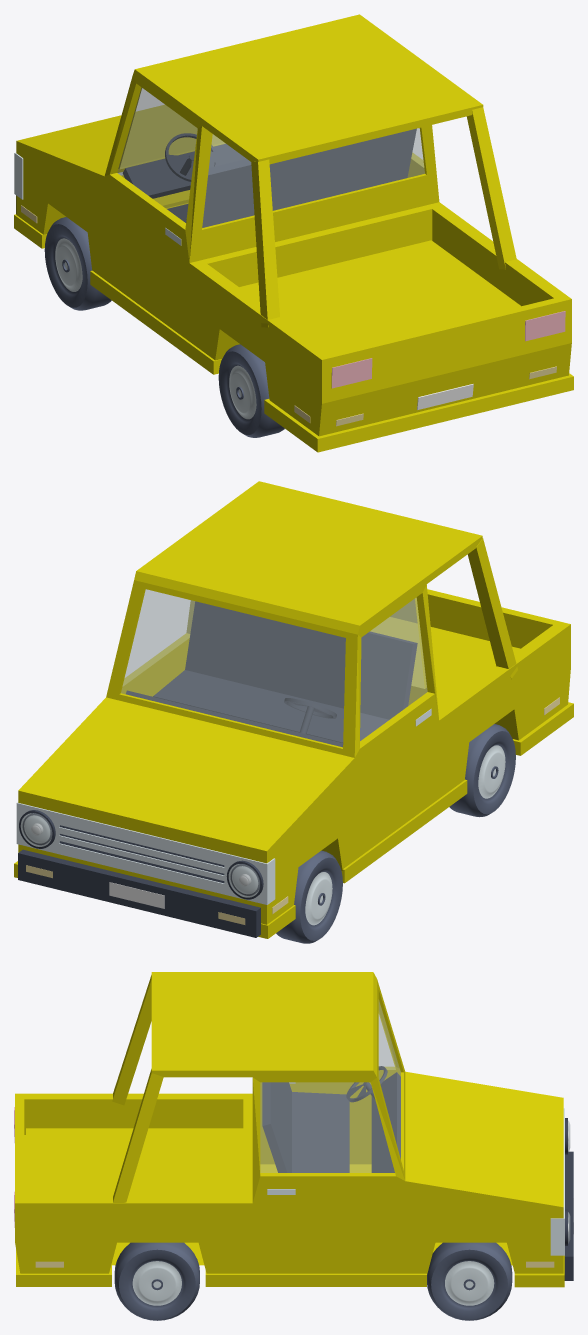
File: taxi.fbx
3 views of the same model, one above another, from view 1: azimuth 30°, elevation 25°; view 2: azimuth 150°, elevation 25°; view 3: azimuth 270°, elevation 25° (orthographic). The views are drawn at different scales.
Visible parts, largest first — view 1: scena:Cube_2_3, scena:Cube, scena:Cube_13, scena:Cube_1, scena:Cylinder_1_2, scena:Cylinder_7, scena:Cube_1_2, scena:Cube_2_2, scena:Cube_15, scena:Cube_2, scena:Cube_3, scena:Cube_12 (+3 smaller); view 2: scena:Cube_2_3, scena:Cube_13, scena:Cube_3_2, scena:Cube_4, scena:Cube_14, scena:Cube, scena:Cylinder_1_2, scena:Cylinder_7, scena:Cube_1_2, scena:Cube_2, scena:Cylinder_2_3, scena:Cylinder_2 (+6 smaller); view 3: scena:Cube_2_3, scena:Cube, scena:Cylinder_5, scena:Cylinder_6, scena:Cube_14, scena:Cube_2, scena:Cube_13, scena:Cube_15, scena:Cube_2_2, scena:Cube_1_2, scena:Cube_1, scena:Cube_4 (+2 smaller).
Boxes of the visible parts, x1=… form: scena:Cube_2_3: x1=16, y1=14, x2=571, y2=436; scena:Cube: x1=239, y1=240, x2=520, y2=352; scena:Cube_13: x1=186, y1=128, x2=416, y2=227; scena:Cube_1: x1=264, y1=373, x2=573, y2=452; scena:Cylinder_1_2: x1=218, y1=344, x2=284, y2=437; scena:Cylinder_7: x1=44, y1=217, x2=111, y2=310; scena:Cube_1_2: x1=251, y1=159, x2=279, y2=327; scena:Cube_2_2: x1=466, y1=107, x2=516, y2=269; scena:Cube_15: x1=123, y1=144, x2=246, y2=198; scena:Cube_2: x1=90, y1=270, x2=221, y2=374; scena:Cube_3: x1=14, y1=190, x2=189, y2=248; scena:Cube_12: x1=331, y1=358, x2=372, y2=388; scena:Cube_2_3: x1=18, y1=481, x2=570, y2=924; scena:Cube_13: x1=185, y1=601, x2=417, y2=719; scena:Cube_3_2: x1=16, y1=802, x2=275, y2=904; scena:Cube_4: x1=18, y1=849, x2=260, y2=937; scena:Cube_14: x1=153, y1=670, x2=388, y2=742; scena:Cube: x1=370, y1=617, x2=520, y2=708; scena:Cylinder_1_2: x1=449, y1=724, x2=515, y2=817; scena:Cylinder_7: x1=276, y1=850, x2=342, y2=943; scena:Cube_1_2: x1=467, y1=538, x2=517, y2=678; scena:Cube_2: x1=341, y1=779, x2=467, y2=883; scena:Cylinder_2_3: x1=226, y1=860, x2=263, y2=899; scena:Cylinder_2: x1=19, y1=810, x2=55, y2=848; scena:Cube_2_3: x1=15, y1=972, x2=563, y2=1274; scena:Cube: x1=26, y1=1128, x2=243, y2=1197; scena:Cylinder_5: x1=114, y1=1242, x2=199, y2=1320; scena:Cylinder_6: x1=427, y1=1242, x2=512, y2=1320; scena:Cube_14: x1=292, y1=1092, x2=349, y2=1172; scena:Cube_2: x1=205, y1=1164, x2=426, y2=1286; scena:Cube_13: x1=262, y1=1082, x2=291, y2=1172; scena:Cube_15: x1=371, y1=1072, x2=400, y2=1172; scena:Cube_2_2: x1=113, y1=1069, x2=163, y2=1202; scena:Cube_1_2: x1=112, y1=975, x2=151, y2=1105; scena:Cube_1: x1=16, y1=1249, x2=111, y2=1286; scena:Cube_4: x1=564, y1=1151, x2=573, y2=1280.
Size of the model in its own units: 155 by 158 by 324.
